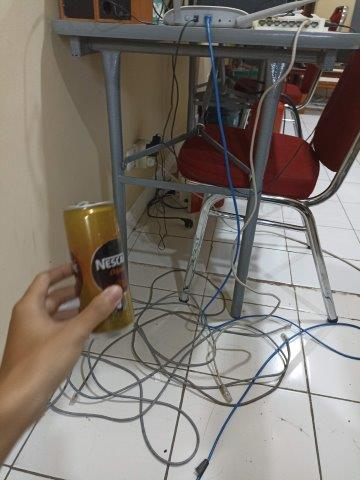kaleng: (64, 200, 134, 338)
